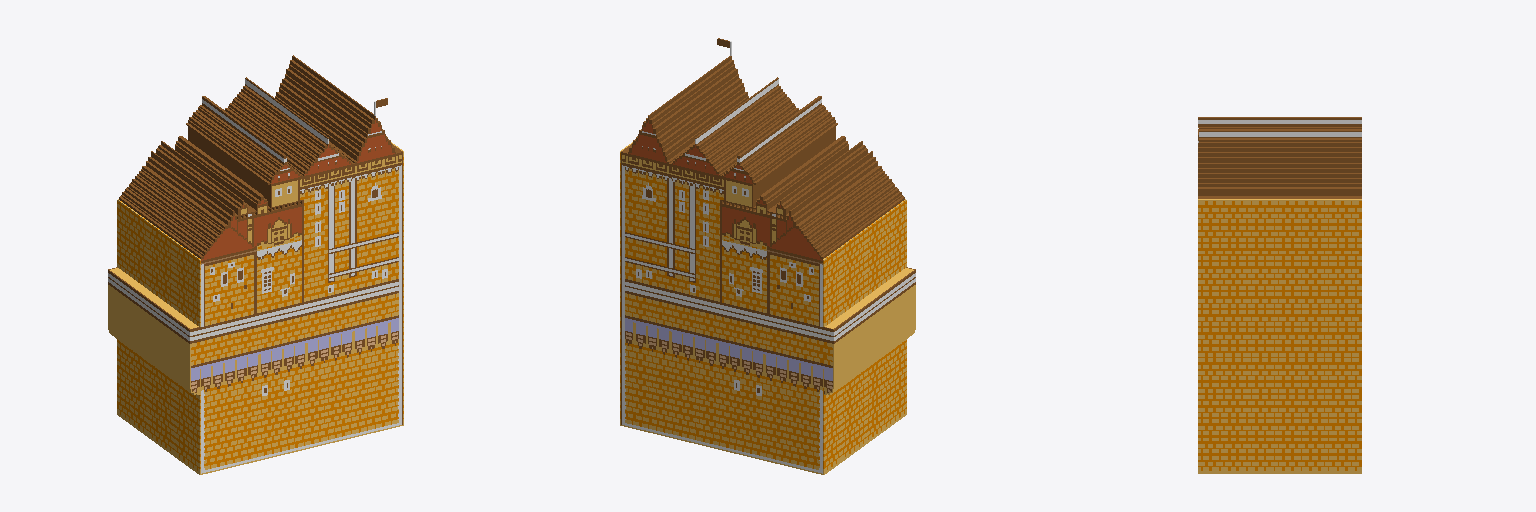
The picture shows the model from 3 angles: view 1: azimuth 30°, elevation 25°; view 2: azimuth 150°, elevation 25°; view 3: azimuth 270°, elevation 25°; orthographic projection.
Visible parts, largest first — view 1: object 1; view 2: object 1; view 3: object 1.
Boxes of the visible parts, x1=… form: object 1: x1=108, y1=55, x2=403, y2=474; object 1: x1=620, y1=38, x2=915, y2=474; object 1: x1=1198, y1=117, x2=1361, y2=473.
Bounding box in the file's own units: 17.3 × 25.5 × 11.5.
1 materials, 1 textured.